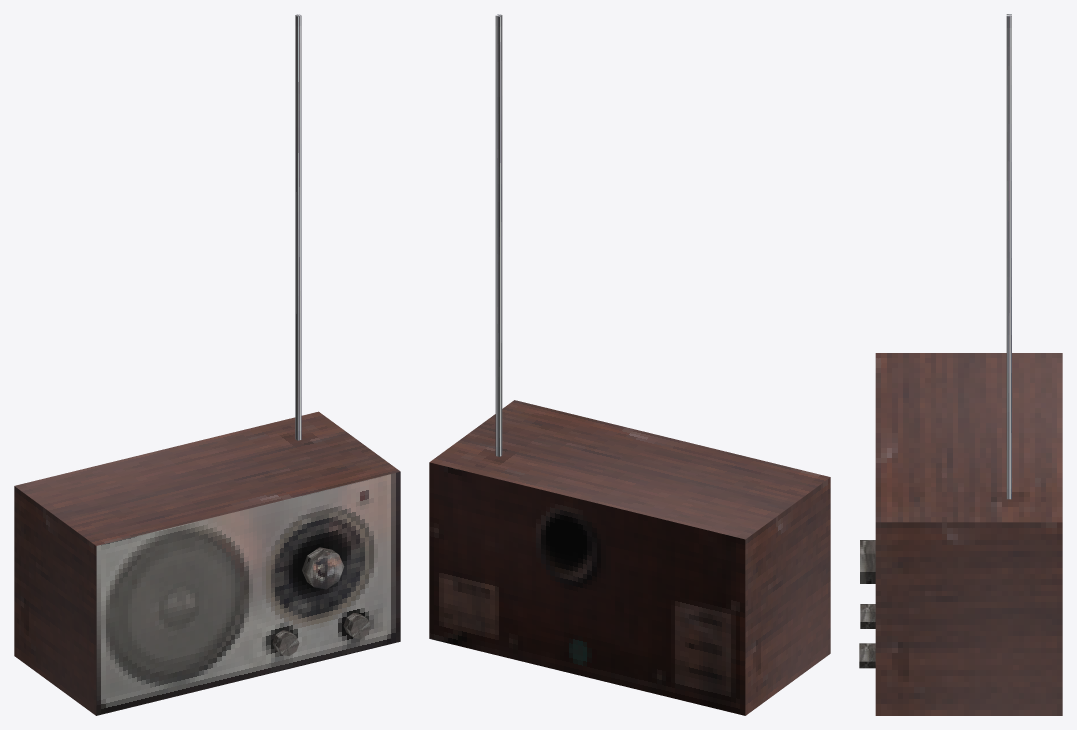
File: radio.glb
The picture shows the model from 3 angles, left to right: view 1: azimuth 30°, elevation 25°; view 2: azimuth 150°, elevation 25°; view 3: azimuth 270°, elevation 25°; orthographic projection. The views are drawn at different scales.
Parts seen in each view (by area): view 1: Cylinder.002; view 2: Cylinder.002; view 3: Cylinder.002.
Part boxes in pixels (x1=…): Cylinder.002: x1=14, y1=14, x2=400, y2=715; Cylinder.002: x1=429, y1=14, x2=830, y2=715; Cylinder.002: x1=859, y1=14, x2=1062, y2=715.
Bounding box in the file's own units: 0.3 × 0.5592 × 0.1523.
Materials: 1 (1 with a texture image).
